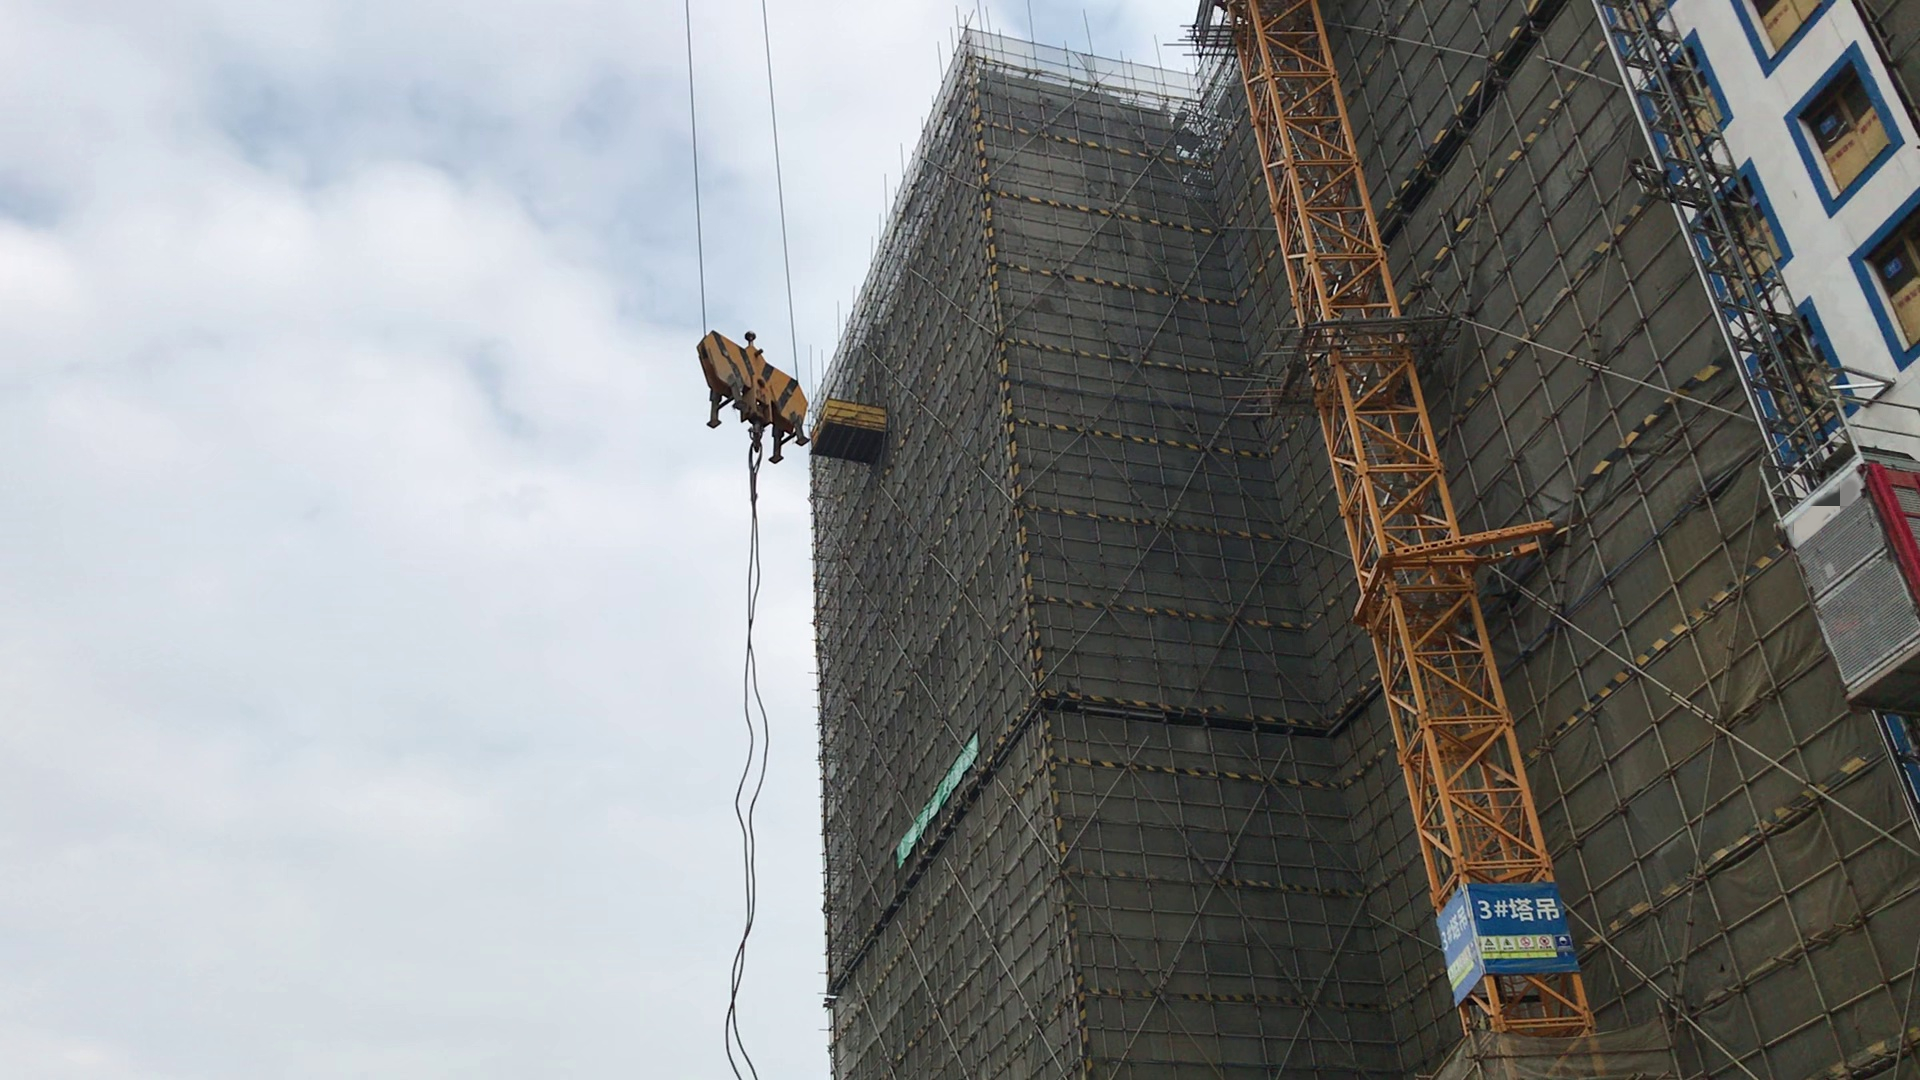hook: (696, 327, 808, 465)
slogan: (894, 727, 982, 869), (1474, 890, 1565, 964), (1439, 909, 1481, 992)
